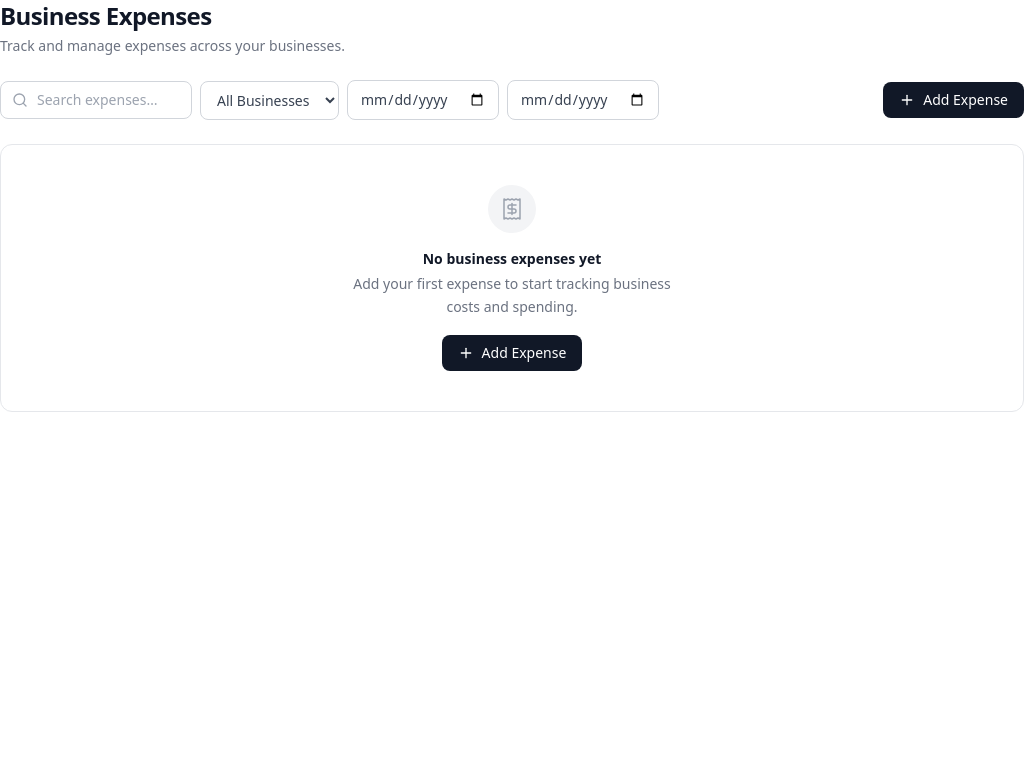
Scenario: BusinessExpensesPage — create › shows service error on create failure
Expected: the heading "No business expenses yet" is shown, [423,249,601,269]
Click the 1st button "Add Expense": (954,100) [883,82,1023,118]
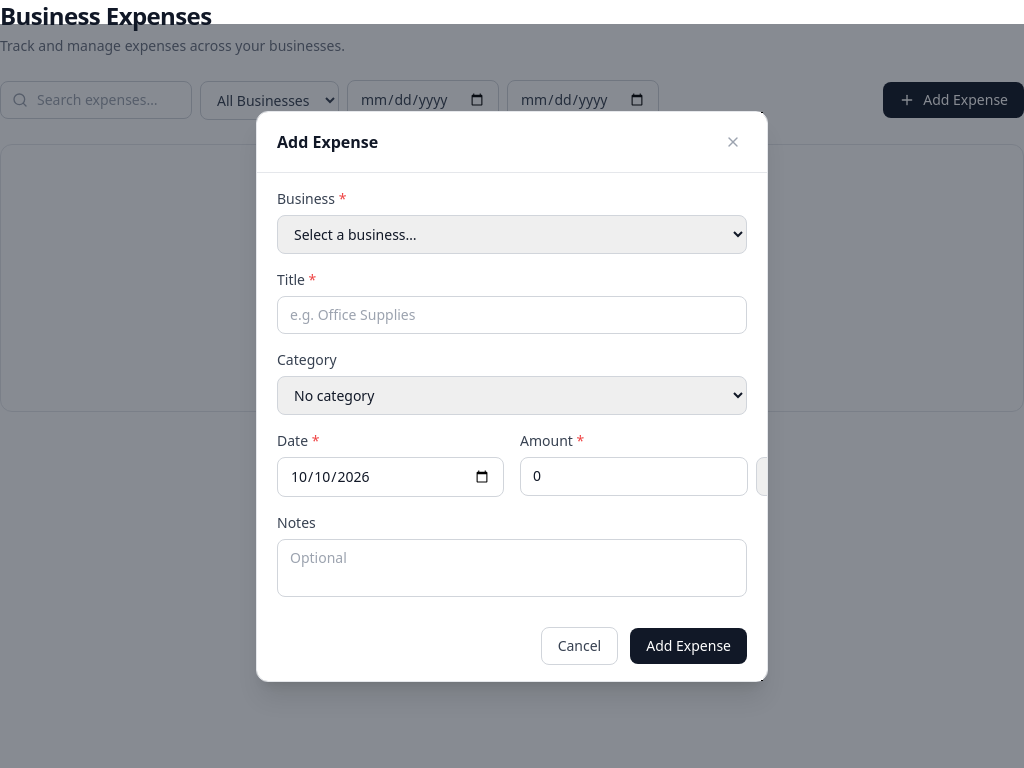
Expected: the dialog is shown, [256,110,768,682]
Select "Test Shop" in the dropdown labelled "Business *": (512,234) [277,214,747,254]
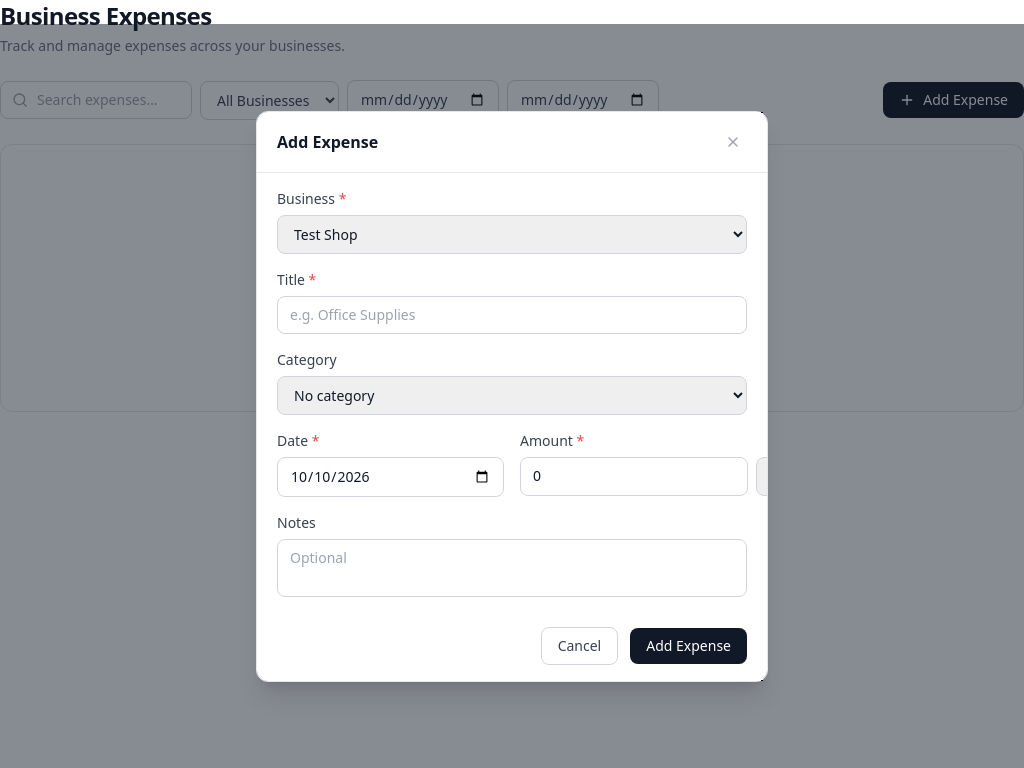
In the field labelled "Title *": (512,314) [277,296,747,334], type "Test Expense"
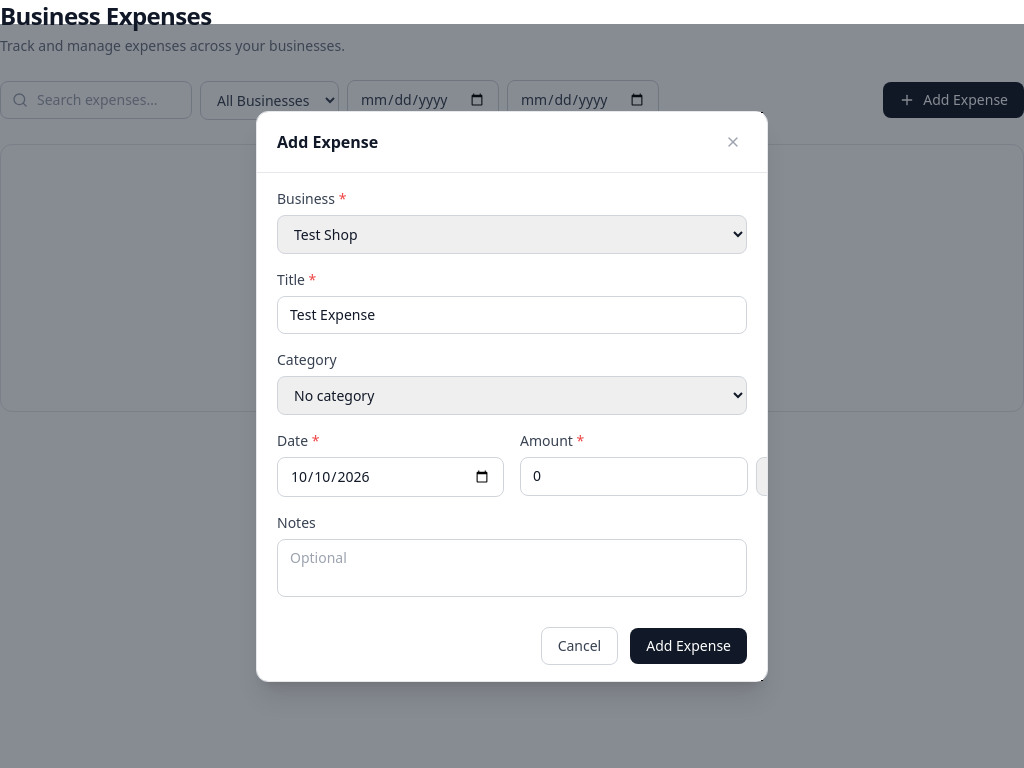
Replace the text in the number field labelled "Amount *" with "10.00": (634,476) [520,456,748,496]
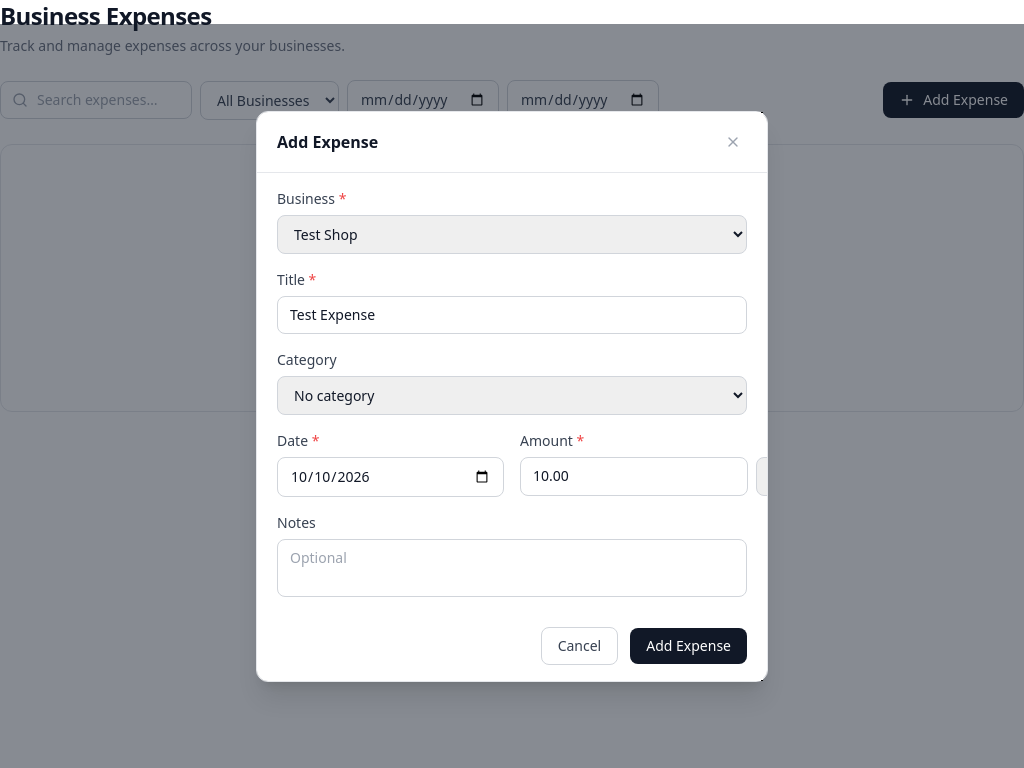
Click the button "Add Expense": (689,646) [630,628,747,664]
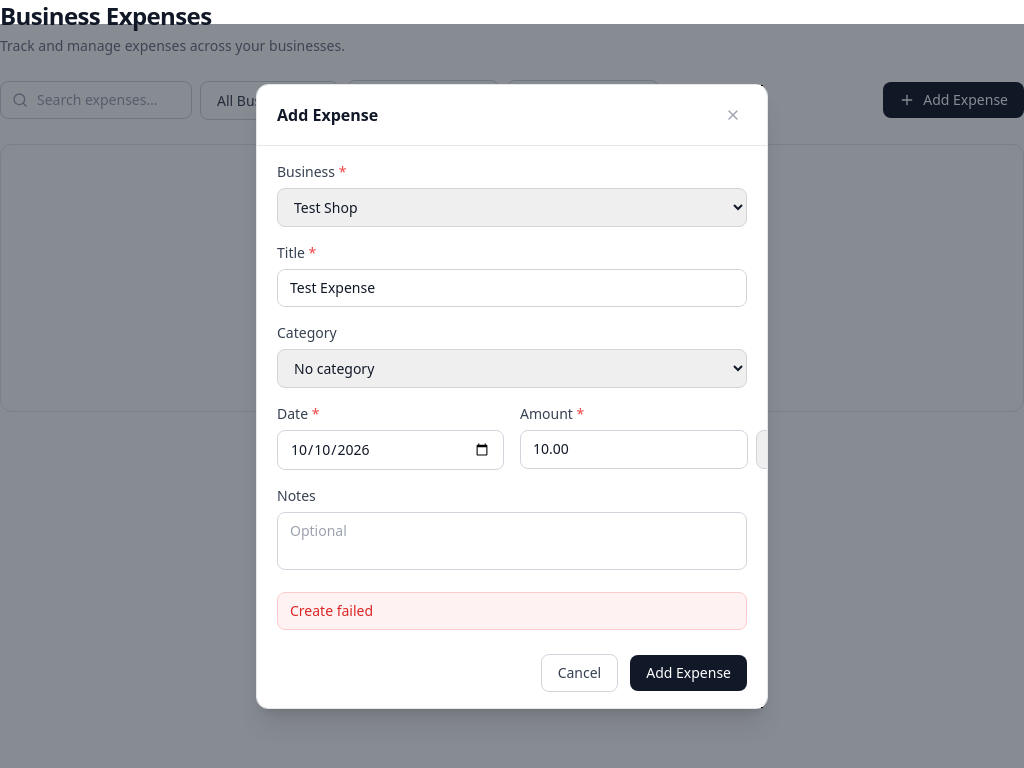
Expected: the text "Create failed" is shown, [277,592,747,630]
